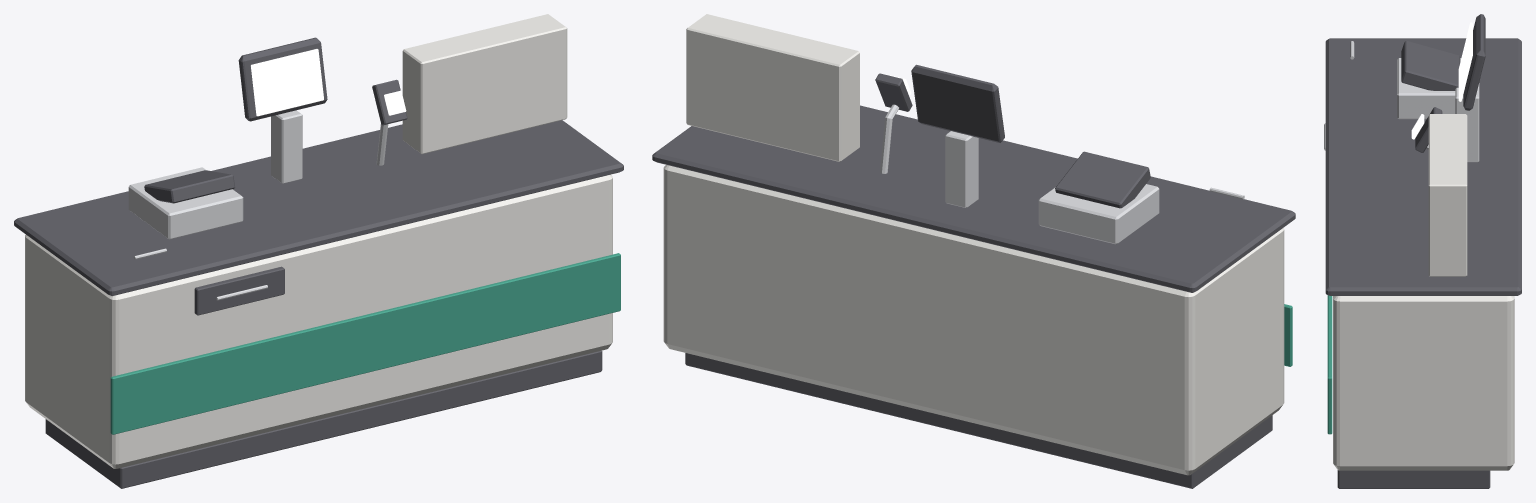
The model's file is petrol-station-and-forecourt-shop-shop-counter-with-ti-fd81d9fb__33966.glb.
3 views of the same model, side by side, from view 1: azimuth 30°, elevation 25°; view 2: azimuth 150°, elevation 25°; view 3: azimuth 270°, elevation 25° (orthographic). The views are drawn at different scales.
Parts seen in each view (by area): view 1: shop-counter-with-till, till-drawer/dark; view 2: shop-counter-with-till; view 3: shop-counter-with-till.
Boxes of the visible parts, <box> form: shop-counter-with-till: <box>14,14,623,488</box>; till-drawer/dark: <box>194,266,284,315</box>; shop-counter-with-till: <box>652,14,1295,488</box>; shop-counter-with-till: <box>1325,14,1521,488</box>.
Bounding box in the file's own units: 2.46 × 1.52 × 0.816.
